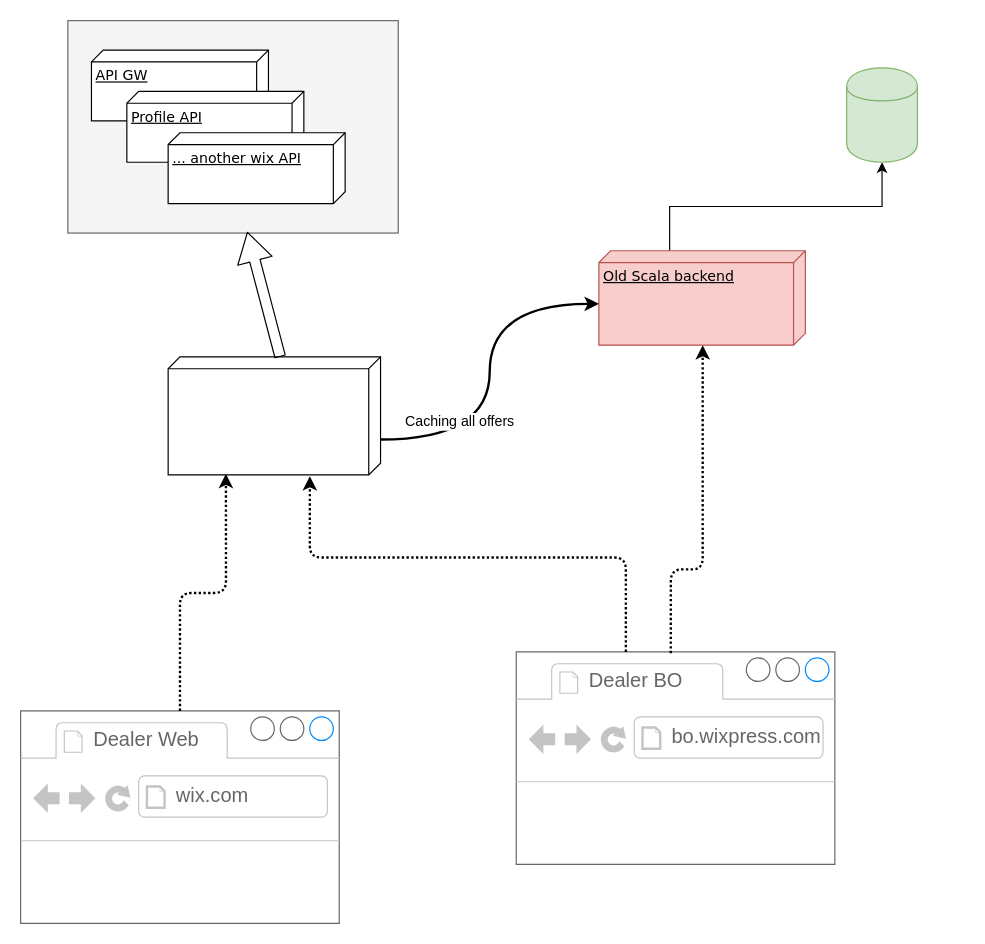
Some shapes in this 985 by 944 pixel diagram are drawn without their labels. Here are the shapes that lost their labels. From the top down, the centre of each, then its label:
At point 881,114: "MySQL".
At point 274,415: "dealer-offers-serving".
